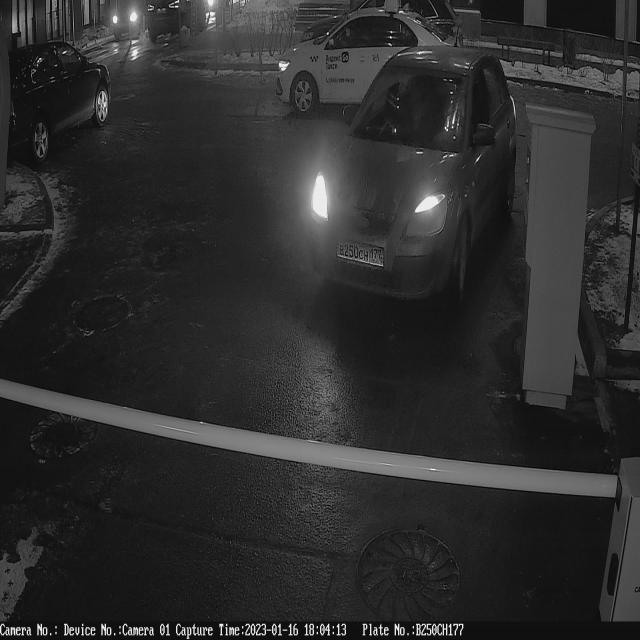car-plate-numbers: (336, 236, 388, 273)
